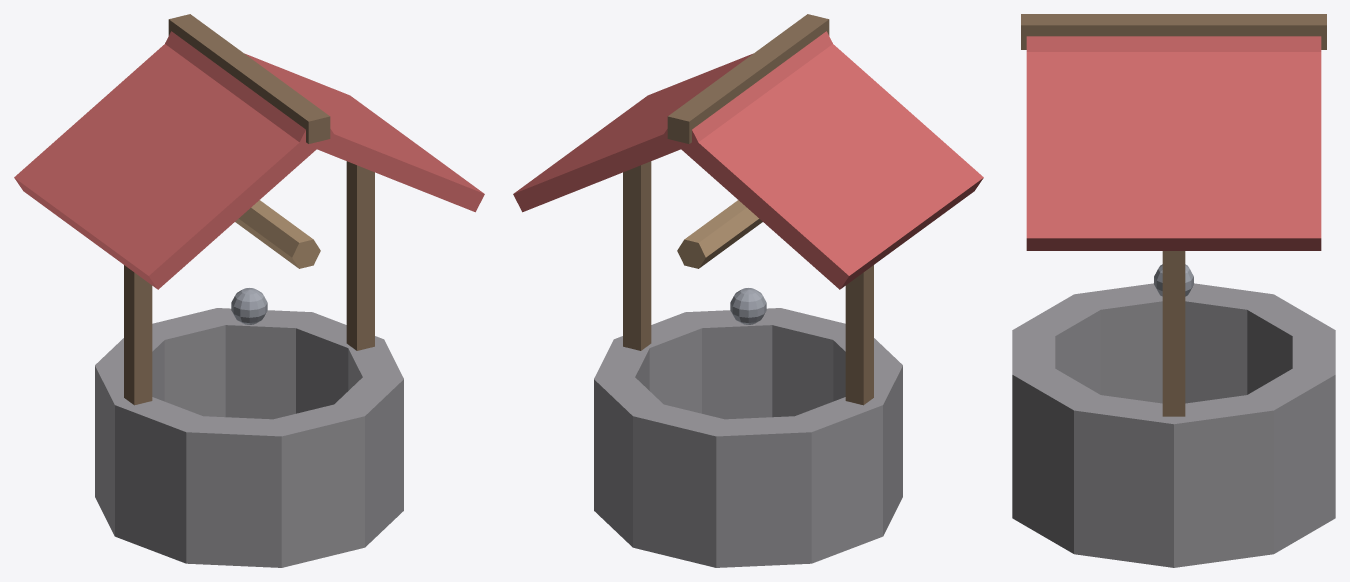
File: well.glb
3 views of the same model, side by side, from view 1: azimuth 30°, elevation 25°; view 2: azimuth 150°, elevation 25°; view 3: azimuth 270°, elevation 25° (orthographic). The views are drawn at different scales.
Visible parts, largest first — view 1: well_00, well_03, well_04, well_02, well_05, well_01, well_06, well_07; view 2: well_00, well_03, well_04, well_02, well_05, well_01, well_06, well_07; view 3: well_00, well_04, well_05, well_03, well_02, well_07.
Boxes of the visible parts, box(x1,y1,x2,y2) form: well_00: box(95, 308, 403, 567); well_03: box(14, 44, 333, 289); well_04: box(165, 31, 484, 212); well_02: box(346, 161, 374, 350); well_05: box(168, 14, 330, 143); well_01: box(124, 265, 152, 405); well_06: box(235, 200, 320, 268); well_07: box(231, 288, 267, 324); well_00: box(594, 308, 902, 567); well_03: box(664, 44, 983, 289); well_04: box(513, 31, 832, 212); well_02: box(623, 161, 651, 350); well_05: box(667, 14, 829, 143); well_01: box(845, 265, 873, 405); well_06: box(677, 200, 762, 268); well_07: box(730, 288, 766, 324); well_00: box(1012, 283, 1335, 567); well_04: box(1026, 52, 1321, 250); well_05: box(1021, 14, 1326, 49); well_03: box(1026, 36, 1321, 51); well_02: box(1162, 251, 1185, 416); well_07: box(1154, 264, 1193, 296).
Bounding box in the file's own units: 1.87 × 2.32 × 1.43.
